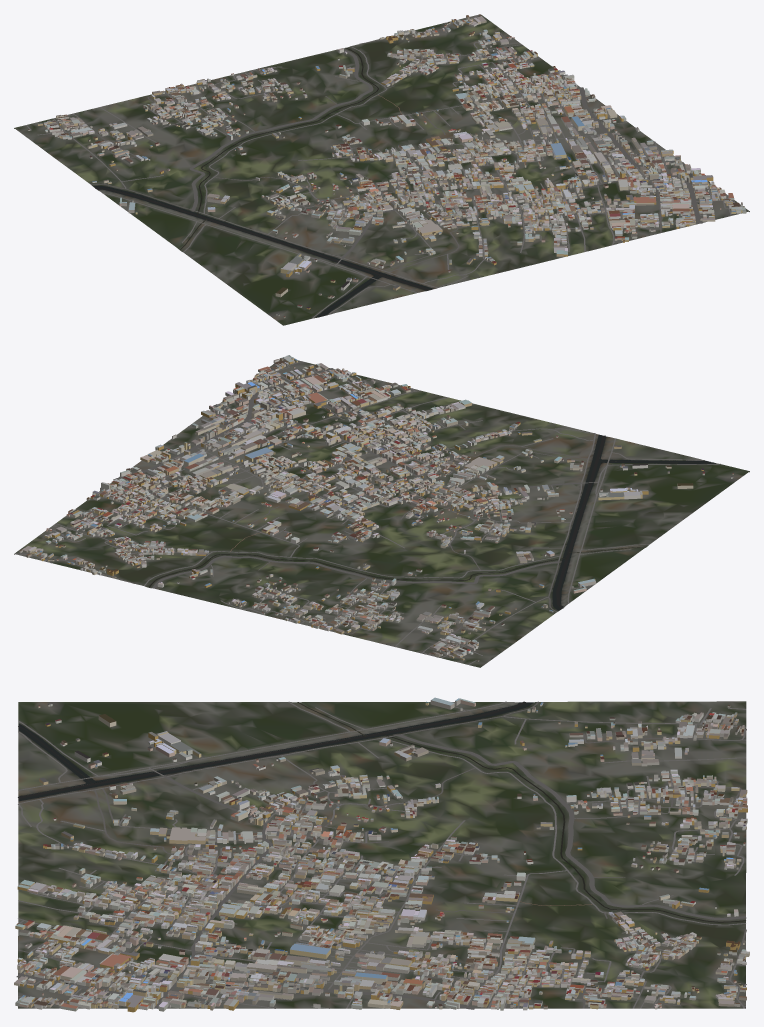
3 views of the same model, one above another, from view 1: azimuth 30°, elevation 25°; view 2: azimuth 150°, elevation 25°; view 3: azimuth 270°, elevation 25° (orthographic). The views are drawn at different scales.
Visible parts, largest first — view 1: ground, buildings, roads, water; view 2: ground, buildings, roads, water; view 3: ground, buildings, roads, water.
Part boxes in pixels (x1,y1,x2,y2): ground: (14,15,749,325); buildings: (27,14,746,317); roads: (26,14,734,318); water: (93,47,433,317); ground: (14,357,749,667); buildings: (19,355,733,661); roads: (15,361,720,664); water: (148,434,715,610); ground: (18,701,746,1008); buildings: (14,697,749,1012); roads: (16,701,746,1009); water: (18,701,745,922).
Size of the model in its own units: 1419 by 25.25 by 1416.
